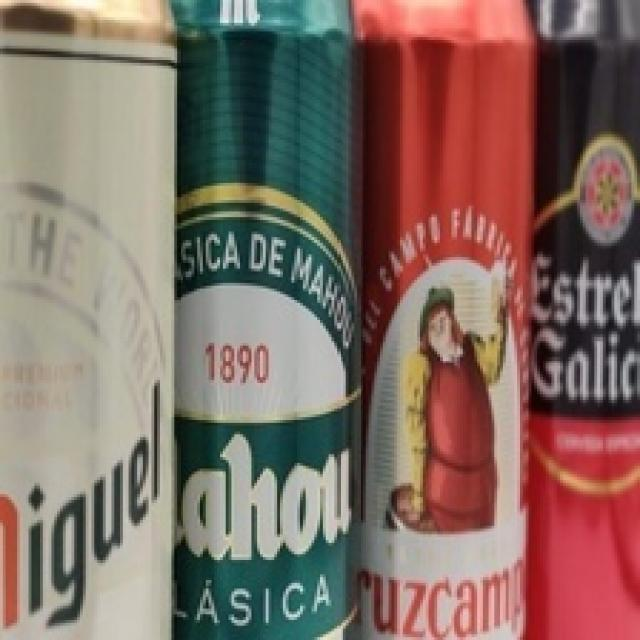recyclable: (175, 0, 366, 640), (352, 0, 532, 640), (0, 0, 177, 640), (522, 0, 640, 640)
